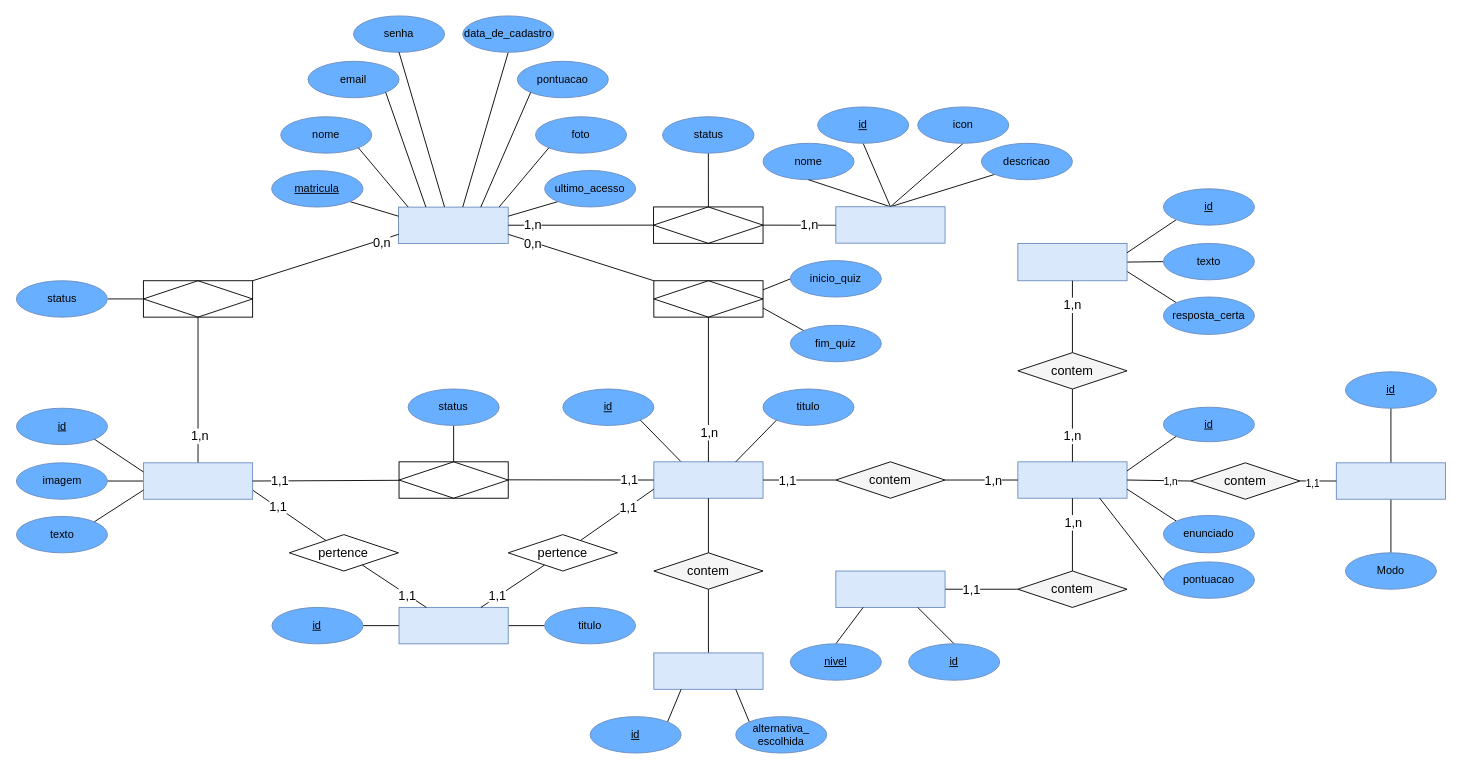
Image size: 1461x769. Some labels were removed from this diagram. Each missing label, with the centre of its shape:
"Alternativa" goes at point 1072,262.
"Assunto" goes at point 453,625.
"Conquista" goes at point 890,224.
"Conteudo" goes at point 198,480.
"desbloqueia" goes at point 453,479.
"Dificuldade" goes at point 890,588.
"estuda" goes at point 198,298.
"Estudante" goes at point 453,224.
"Modo_Questao" goes at point 1390,480.
"Questao" goes at point 1072,479.
"Quiz" goes at point 708,479.
"realiza" goes at point 708,298.
"recebe" goes at point 708,224.
"resposta_quiz" goes at point 708,670.
